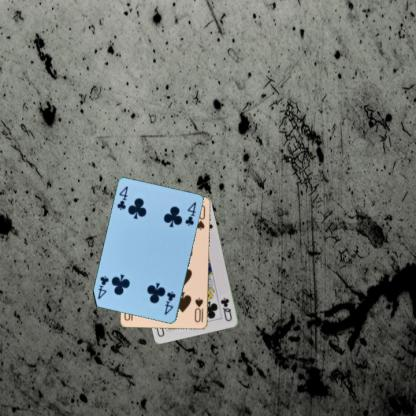10s: (192, 295, 204, 324)
4c: (162, 289, 177, 316), (115, 184, 130, 211)
Qc: (218, 296, 233, 323)
